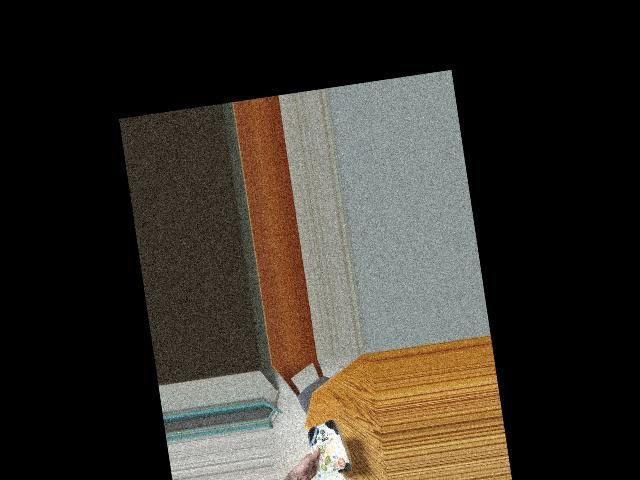cheese: (304, 418, 352, 477)
